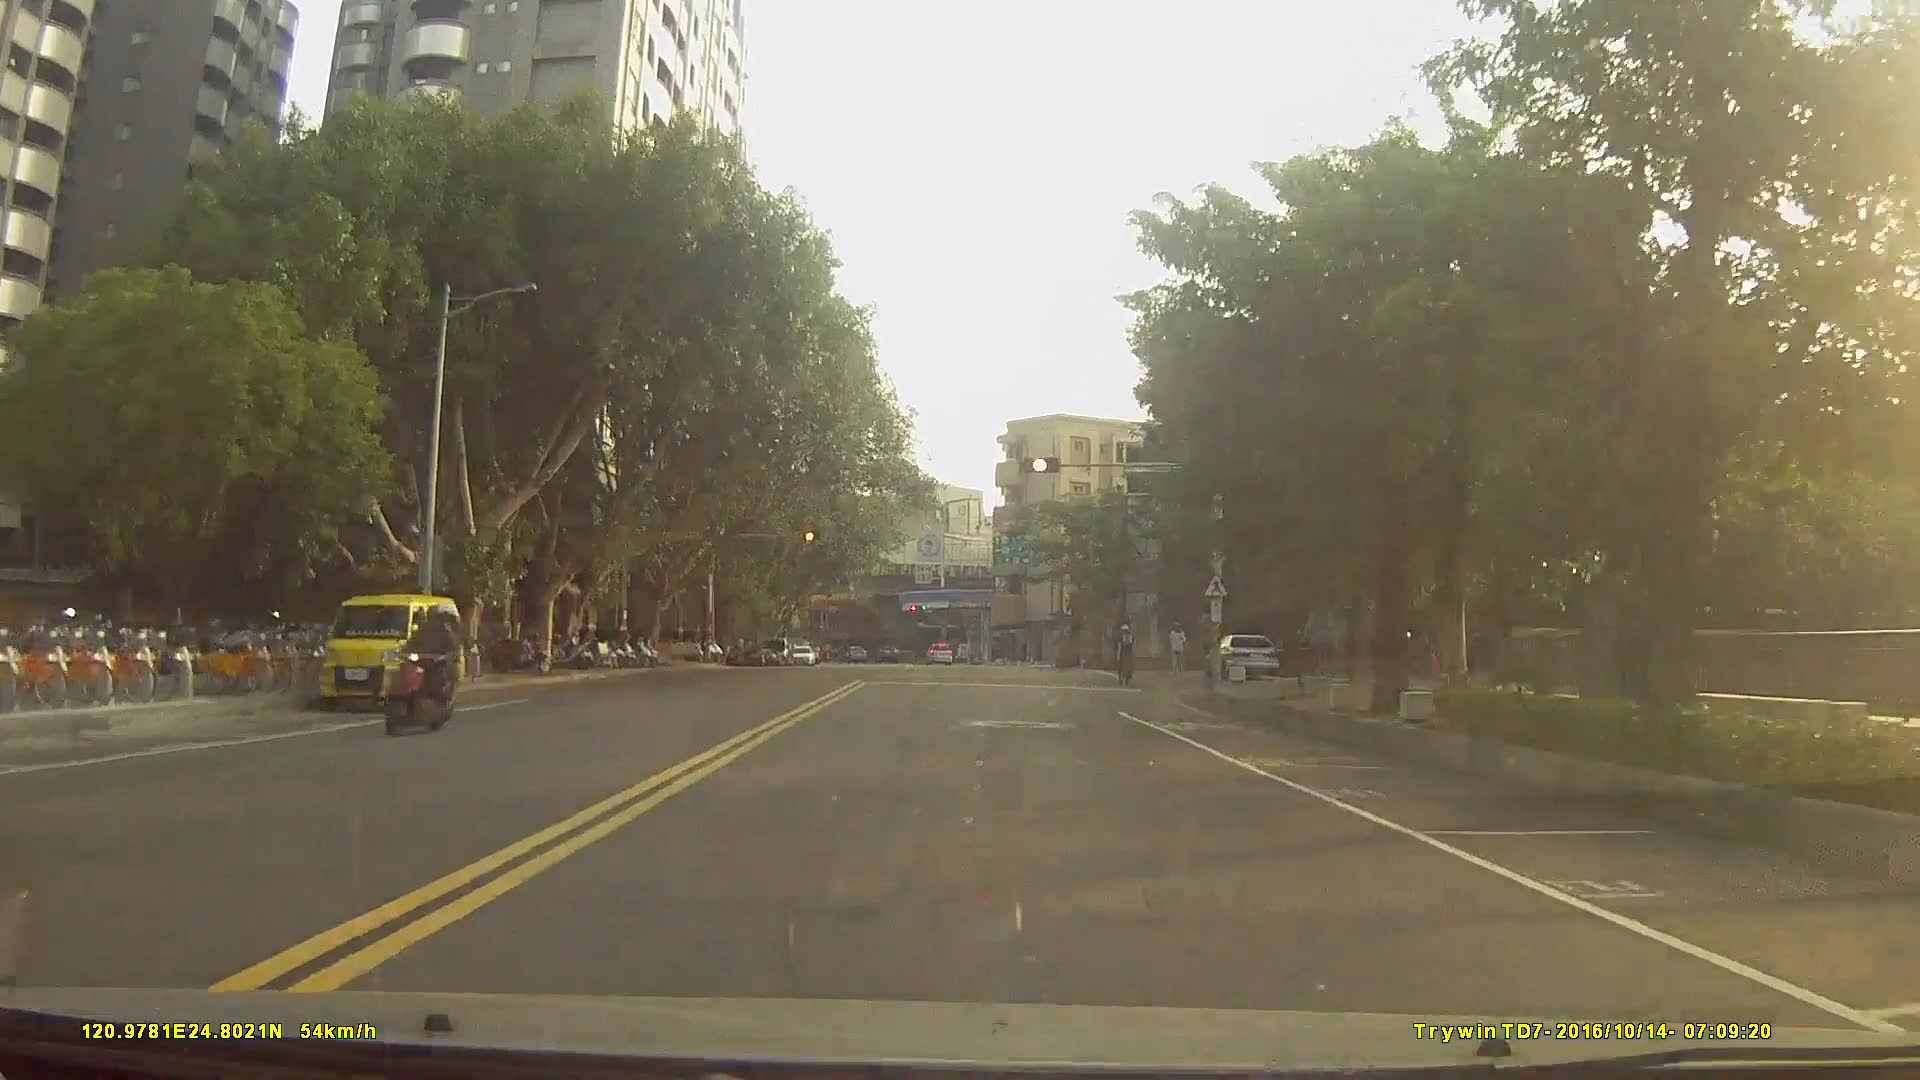pedestrian: (1169, 618, 1190, 680)
rider: (387, 601, 465, 737), (1114, 619, 1139, 679)
vehicle: (1204, 632, 1281, 679), (787, 640, 818, 662), (928, 642, 953, 665)
